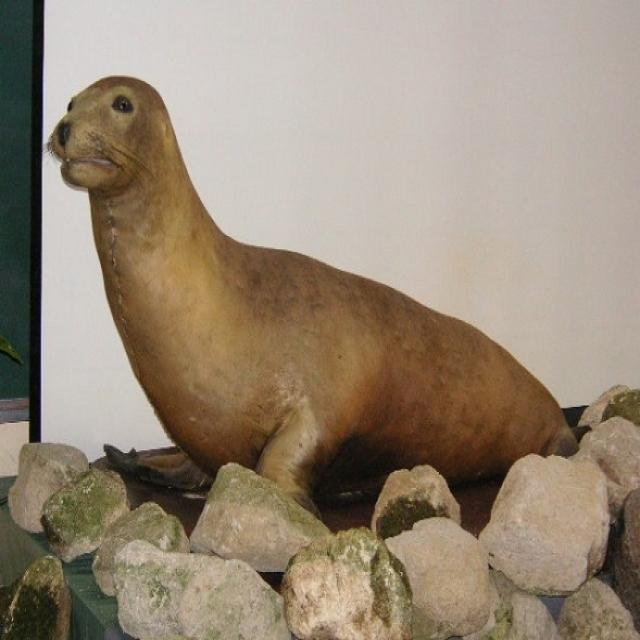WaterDog: (44, 68, 584, 524)
